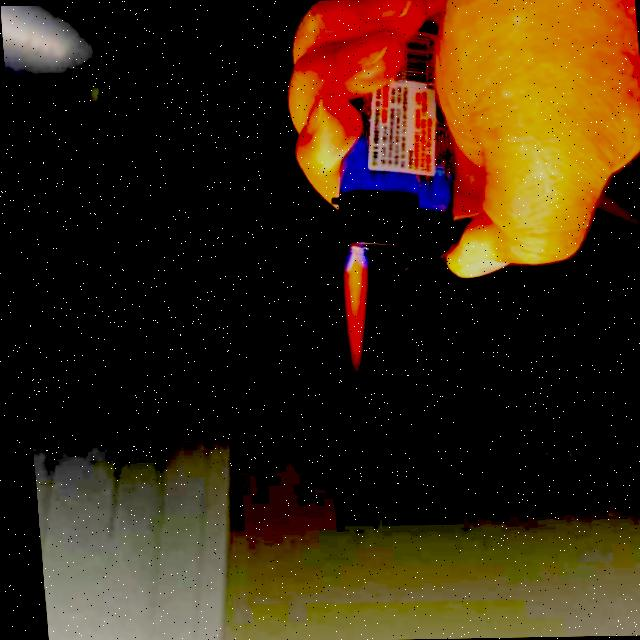Fire: (336, 252, 375, 376)
